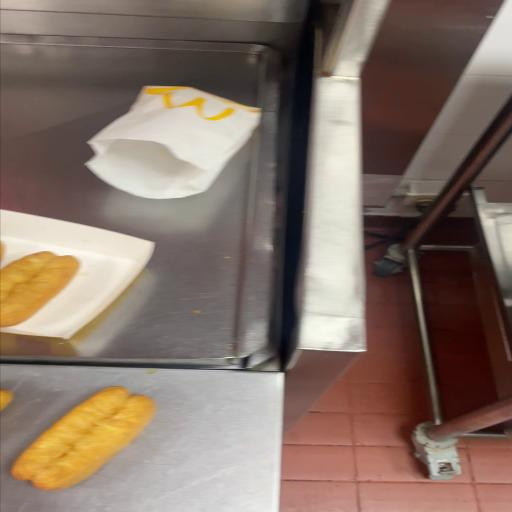brand_golden_good: (11, 386, 156, 490), (11, 387, 155, 490), (0, 251, 80, 328)
